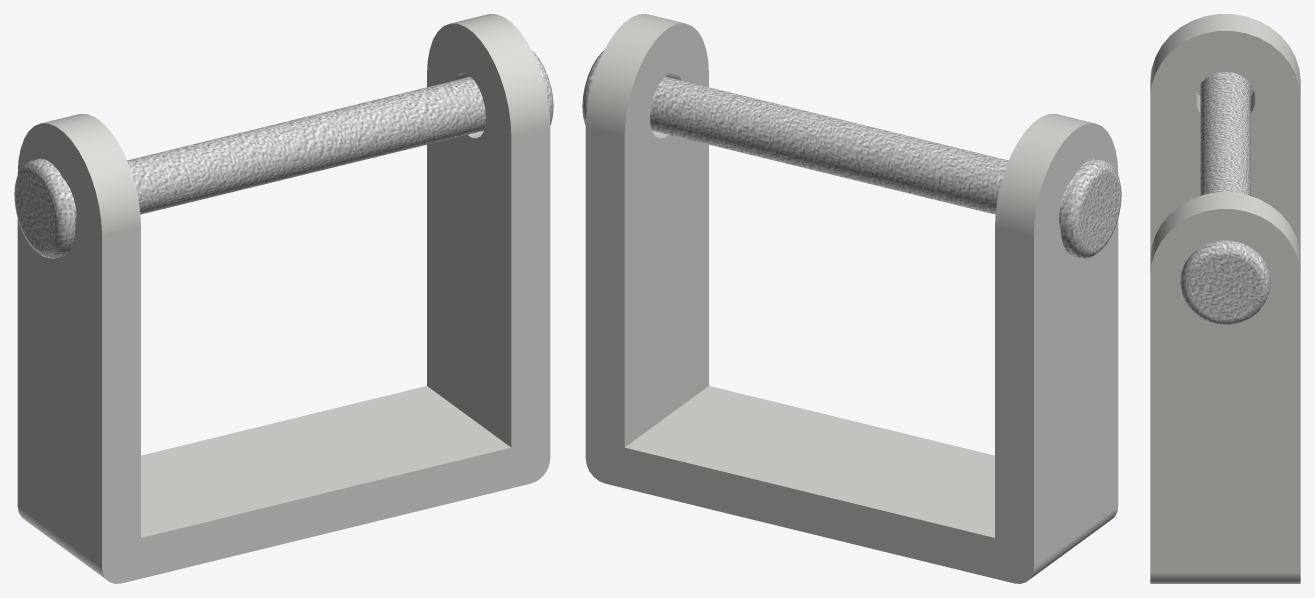
The model's file is Clamp-Secondary.gltf.
3 renders of one model, left to right at view 1: azimuth 30°, elevation 25°; view 2: azimuth 150°, elevation 25°; view 3: azimuth 270°, elevation 25°, orthographic. The views are drawn at different scales.
Visible parts, largest first — view 1: Solid1; view 2: Solid1; view 3: Solid1.
Part boxes in pixels (x1=…): Solid1: x1=14, y1=14, x2=553, y2=583; Solid1: x1=582, y1=14, x2=1121, y2=583; Solid1: x1=1150, y1=14, x2=1300, y2=583.
Bounding box in the file's own units: 0.102 × 0.0839 × 0.03.
2 materials, 1 textured.
